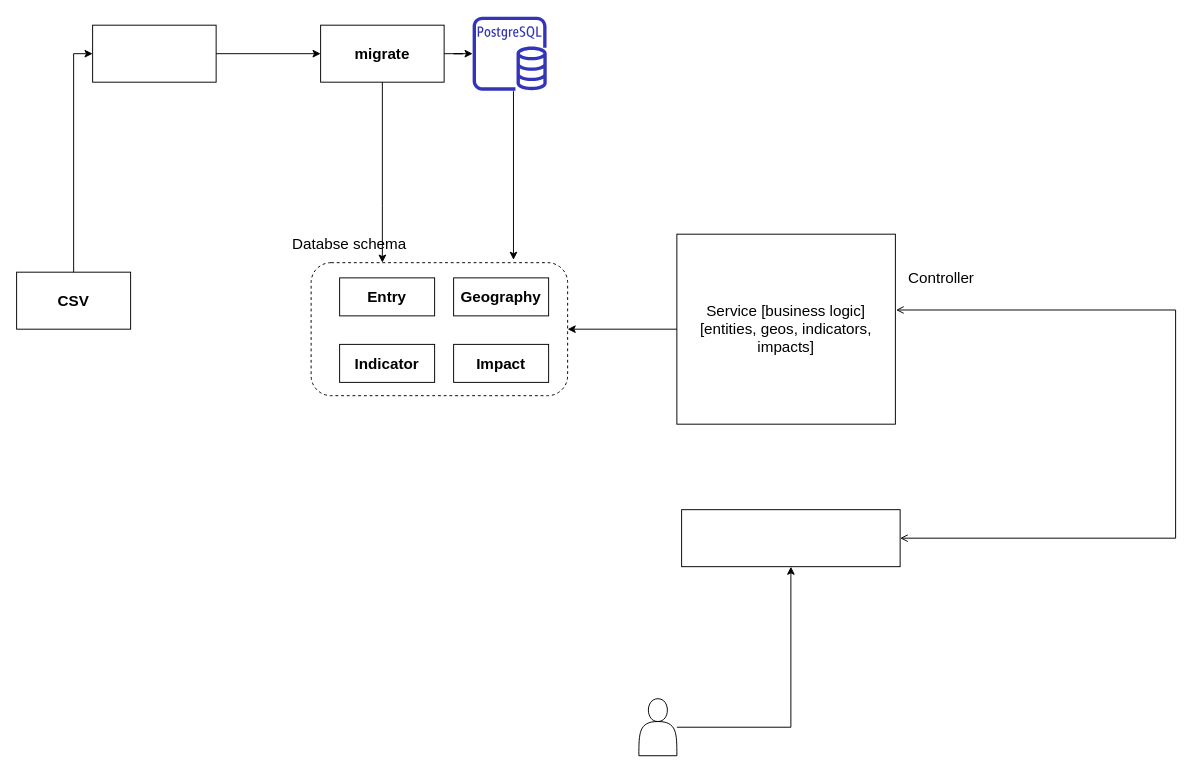
Image size: 1201x772. Some labels were removed from this diagram. The centre of each missing label's shape, as x and y in pixels:
API Gateway: [790,538]
processing the csv in Python: [154,53]
